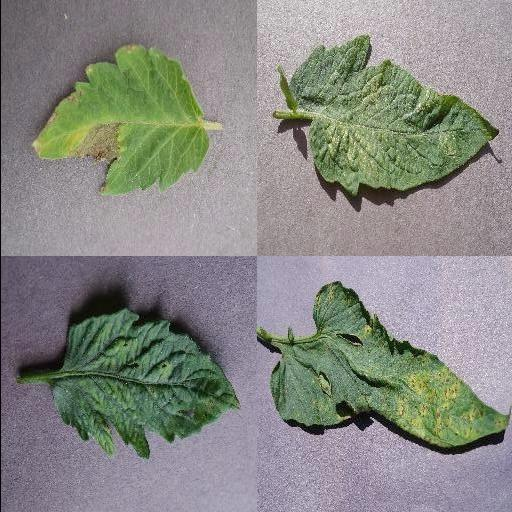Late Blight: (30, 45, 210, 197)
Mosaic Virus: (47, 306, 241, 462)
Septoria: (268, 280, 510, 448)
Spider Mites: (287, 36, 493, 198)
